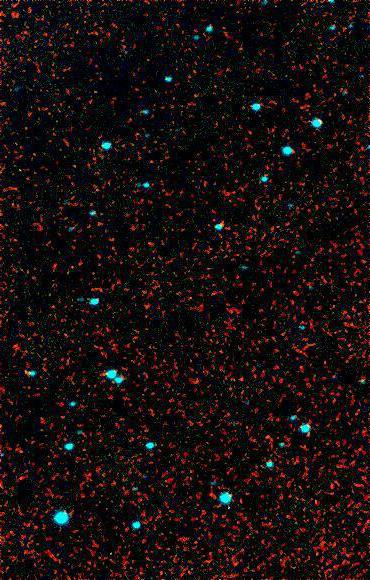star: (299, 417, 329, 447)
